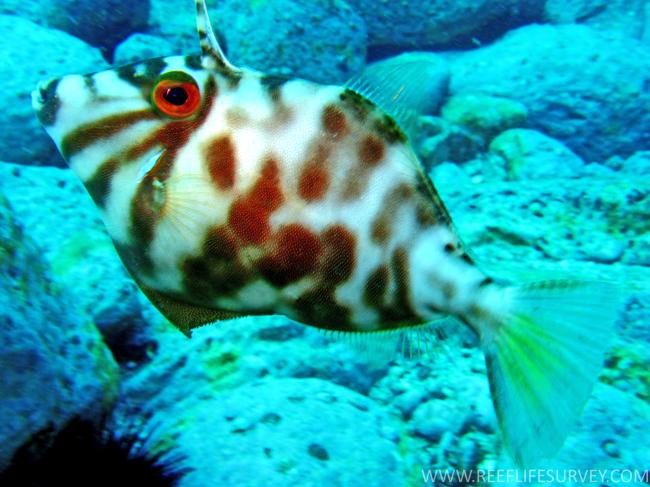fish: (31, 1, 631, 469)
